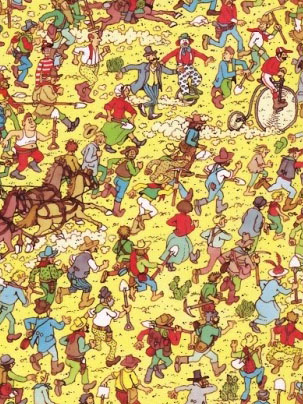waldo: (41, 40, 54, 57)
